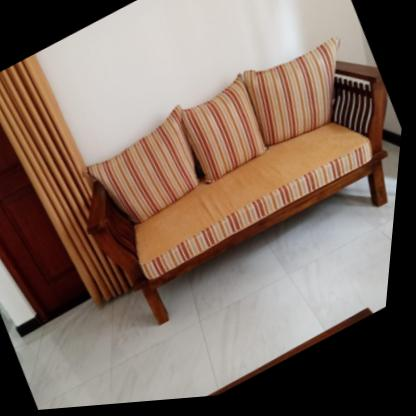Sofa: (54, 21, 413, 351)
